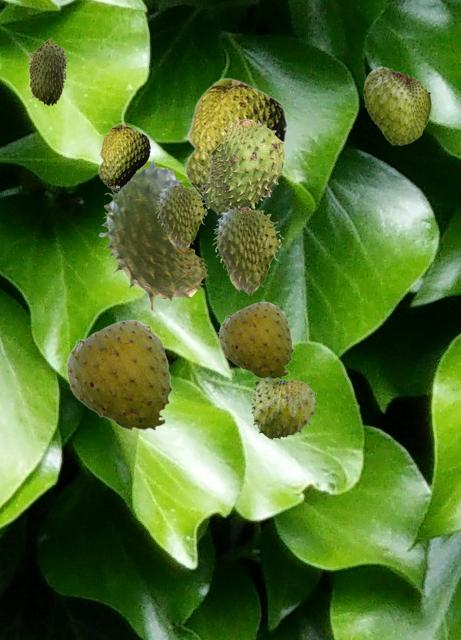guyabano: (99, 159, 207, 310), (183, 77, 287, 200), (64, 319, 172, 432), (200, 119, 285, 214), (212, 206, 283, 294), (217, 301, 293, 379), (363, 65, 430, 144), (250, 375, 317, 438), (97, 123, 150, 190), (155, 184, 207, 249), (27, 37, 67, 105)
